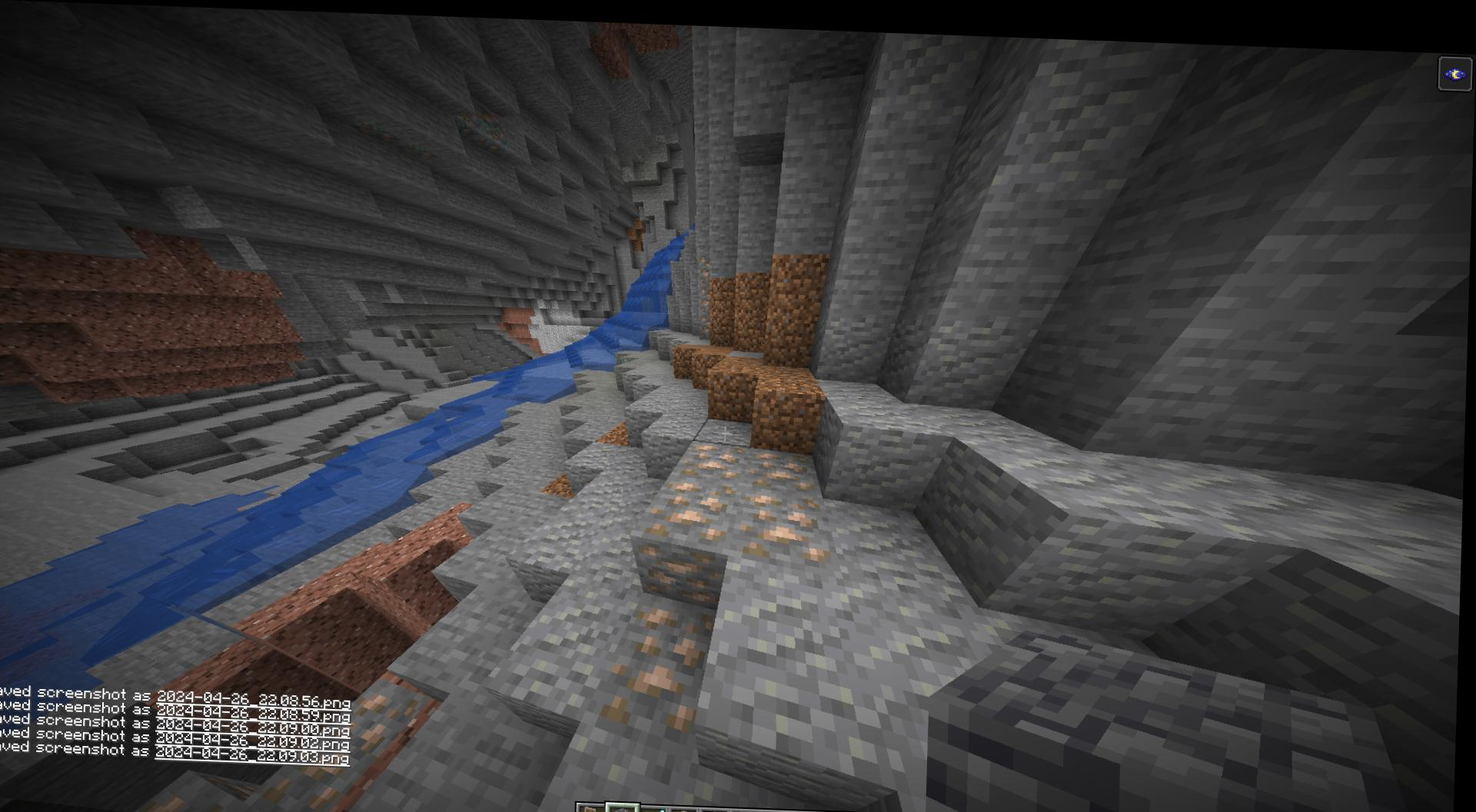iron ore: (656, 435, 832, 555), (595, 602, 715, 735), (696, 247, 717, 335)
